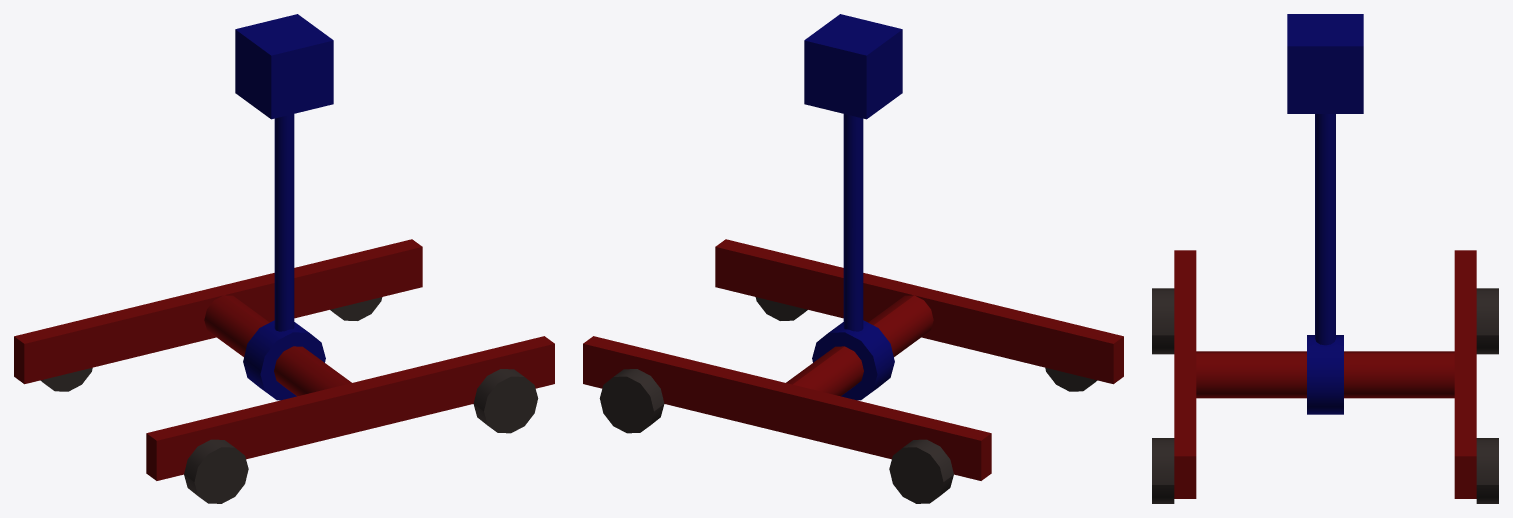
The model's file is cart_model_1.dae.
The picture shows the model from 3 angles, left to right: view 1: azimuth 30°, elevation 25°; view 2: azimuth 150°, elevation 25°; view 3: azimuth 270°, elevation 25°; orthographic projection. The views are drawn at different scales.
Parts seen in each view (by area): view 1: group_1 (×5), group_0 (×2); view 2: group_1 (×5), group_0 (×2); view 3: group_1 (×5), group_0 (×2).
Part boxes in pixels (x1=…): group_1 (×5): x1=14, y1=239, x2=554, y2=503; group_0 (×2): x1=235, y1=14, x2=333, y2=400; group_1 (×5): x1=583, y1=239, x2=1123, y2=503; group_0 (×2): x1=804, y1=14, x2=902, y2=400; group_1 (×5): x1=1152, y1=250, x2=1498, y2=503; group_0 (×2): x1=1287, y1=14, x2=1363, y2=414.
Size of the model in its own units: 2640 by 1880 by 2369.
